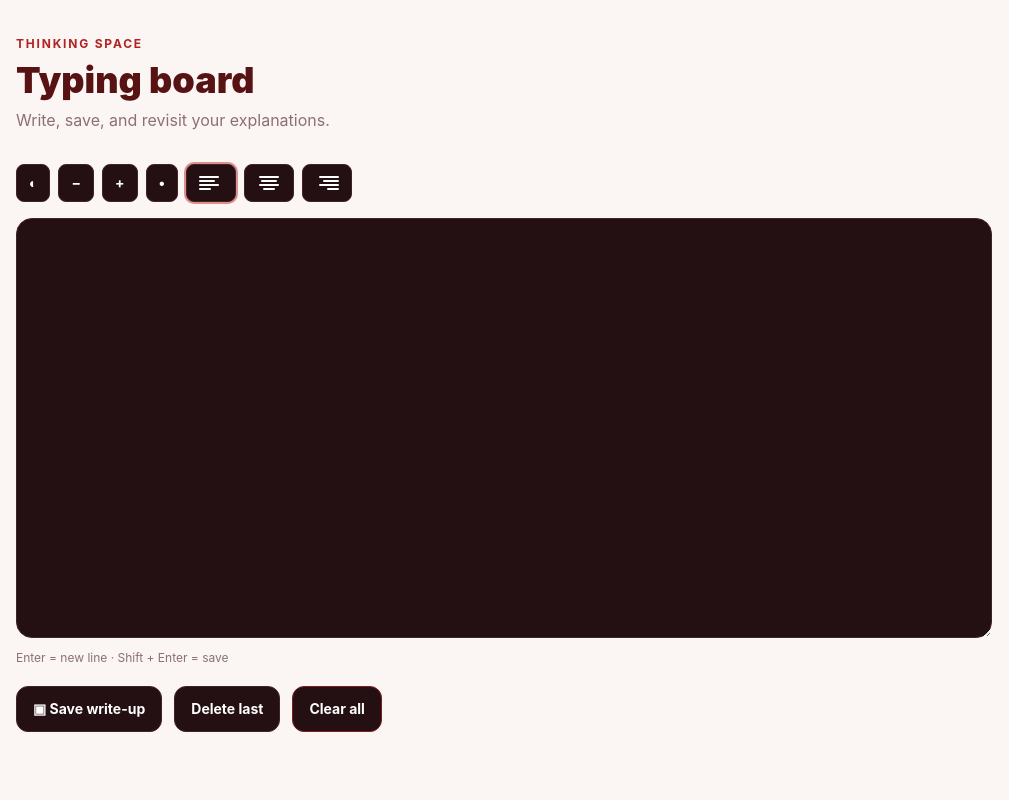
it: BoardPage › saves an editor write-up
Clear the field named "Typing board editor". click: (504, 428)
box: top-left (16, 218), bottom-right (992, 638)
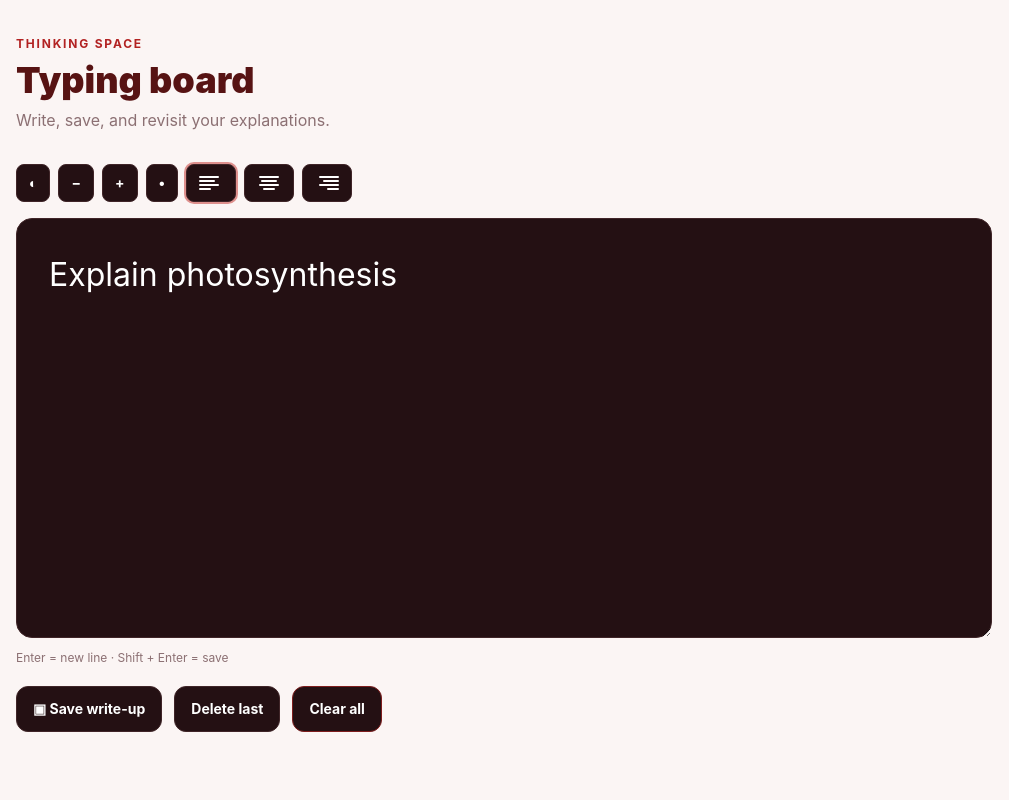
Click the button "▣ Save write-up". click: (89, 709)
box: top-left (16, 686), bottom-right (162, 732)
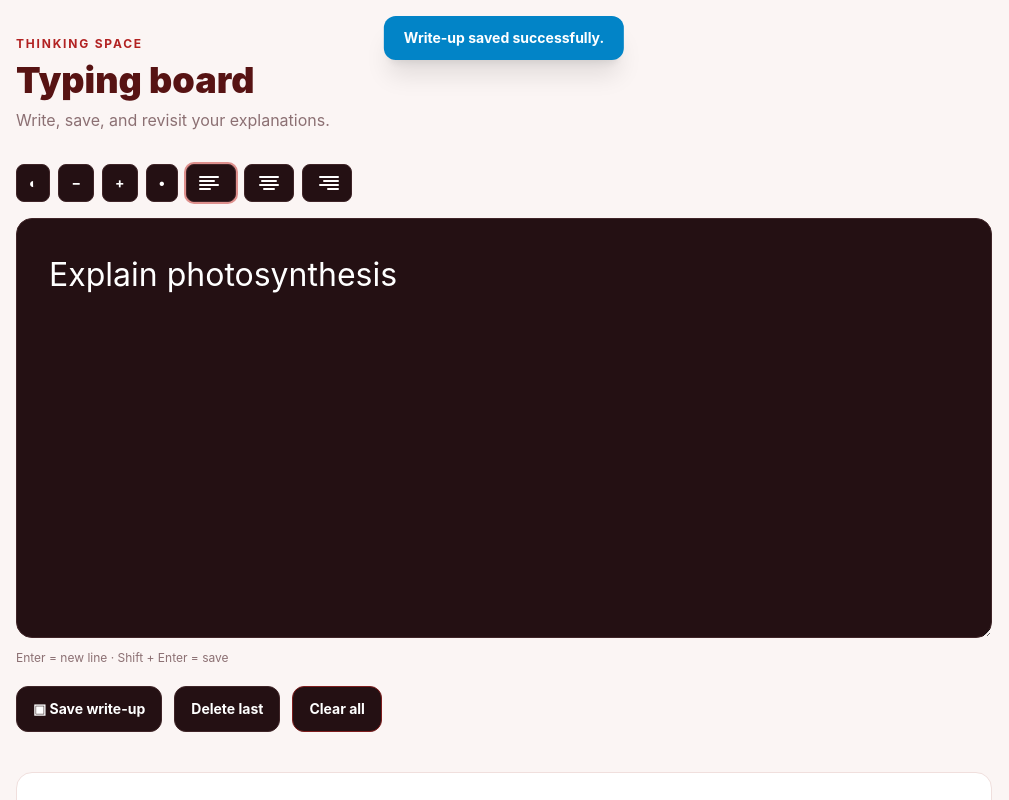
Check: the text "Write-up saved successfully." is shown, box top-left (384, 16), bottom-right (624, 60)
